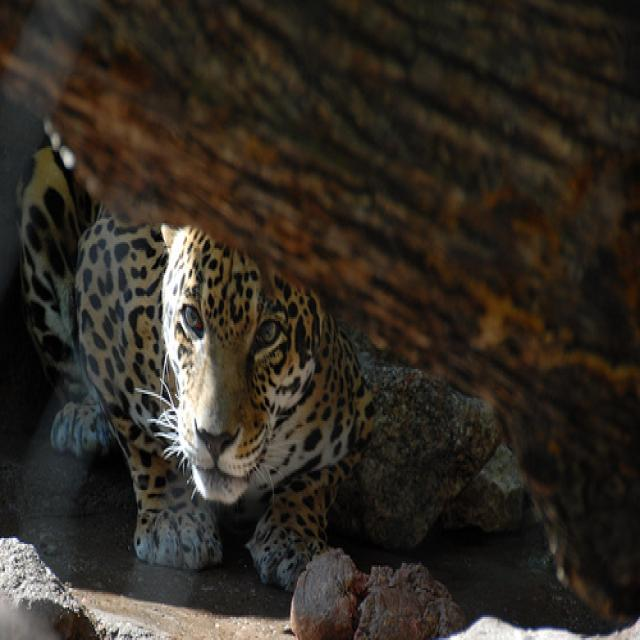Leopard: (16, 136, 380, 592)
